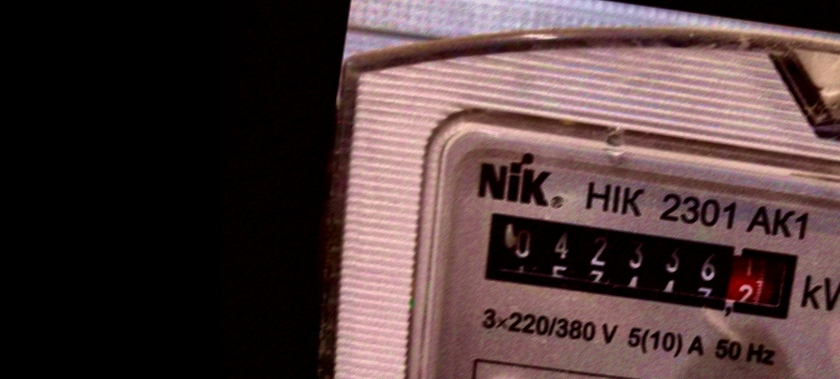0: (509, 224, 532, 260)
1: (739, 250, 754, 278)
2: (585, 231, 610, 267), (732, 281, 752, 304)
3: (622, 235, 644, 269), (660, 241, 682, 275)
4: (549, 226, 571, 260)
6: (694, 247, 719, 284)
screen: (466, 196, 811, 333)
